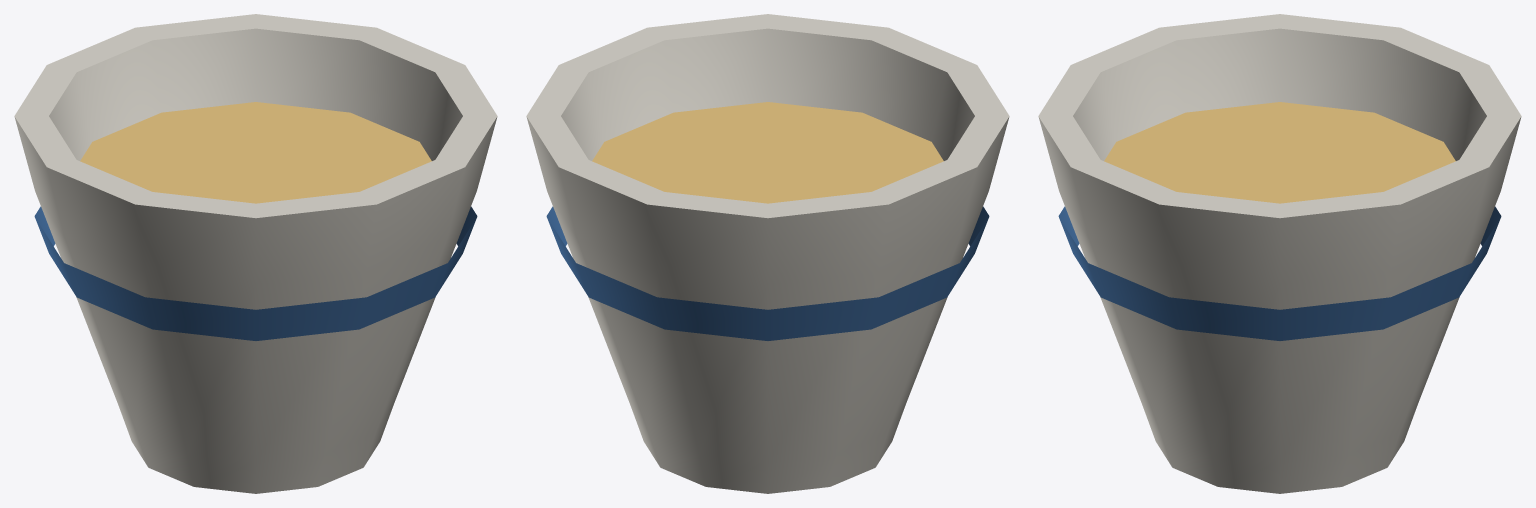
File: teacup.glb
3 views of the same model, side by side, from view 1: azimuth 30°, elevation 25°; view 2: azimuth 150°, elevation 25°; view 3: azimuth 270°, elevation 25° (orthographic).
Visible parts, largest first — view 1: teacup; view 2: teacup; view 3: teacup.
Part boxes in pixels (x1,y1,x2,y2): teacup: (14,14,497,493); teacup: (526,14,1009,493); teacup: (1038,14,1521,493).
Size of the model in its own units: 0.07 by 0.052 by 0.07.
